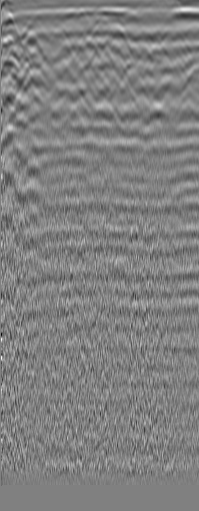오수: (19, 24, 39, 44)
우수: (171, 27, 191, 47)
